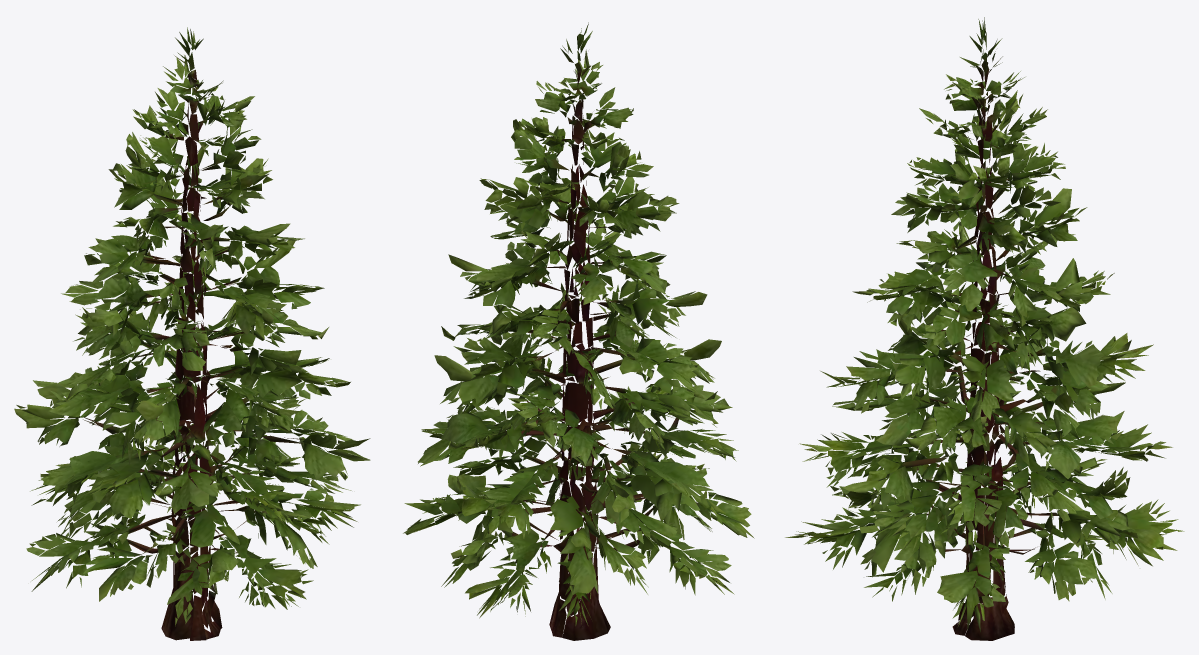
Rendered from tree-pine.glb.
The picture shows the model from 3 angles, left to right: view 1: azimuth 30°, elevation 25°; view 2: azimuth 150°, elevation 25°; view 3: azimuth 270°, elevation 25°; orthographic projection.
Parts seen in each view (by area): view 1: tripo_node_1df8b48a-882c-4adb-b0f3-7a89681348d5; view 2: tripo_node_1df8b48a-882c-4adb-b0f3-7a89681348d5; view 3: tripo_node_1df8b48a-882c-4adb-b0f3-7a89681348d5.
Boxes of the visible parts, x1,y1,x2,y2 form: tripo_node_1df8b48a-882c-4adb-b0f3-7a89681348d5: [14, 27, 370, 640]; tripo_node_1df8b48a-882c-4adb-b0f3-7a89681348d5: [403, 22, 754, 640]; tripo_node_1df8b48a-882c-4adb-b0f3-7a89681348d5: [785, 17, 1184, 640].
Size of the model in its own units: 0.5249 by 0.9686 by 0.5723.
1 material, 1 textured.
